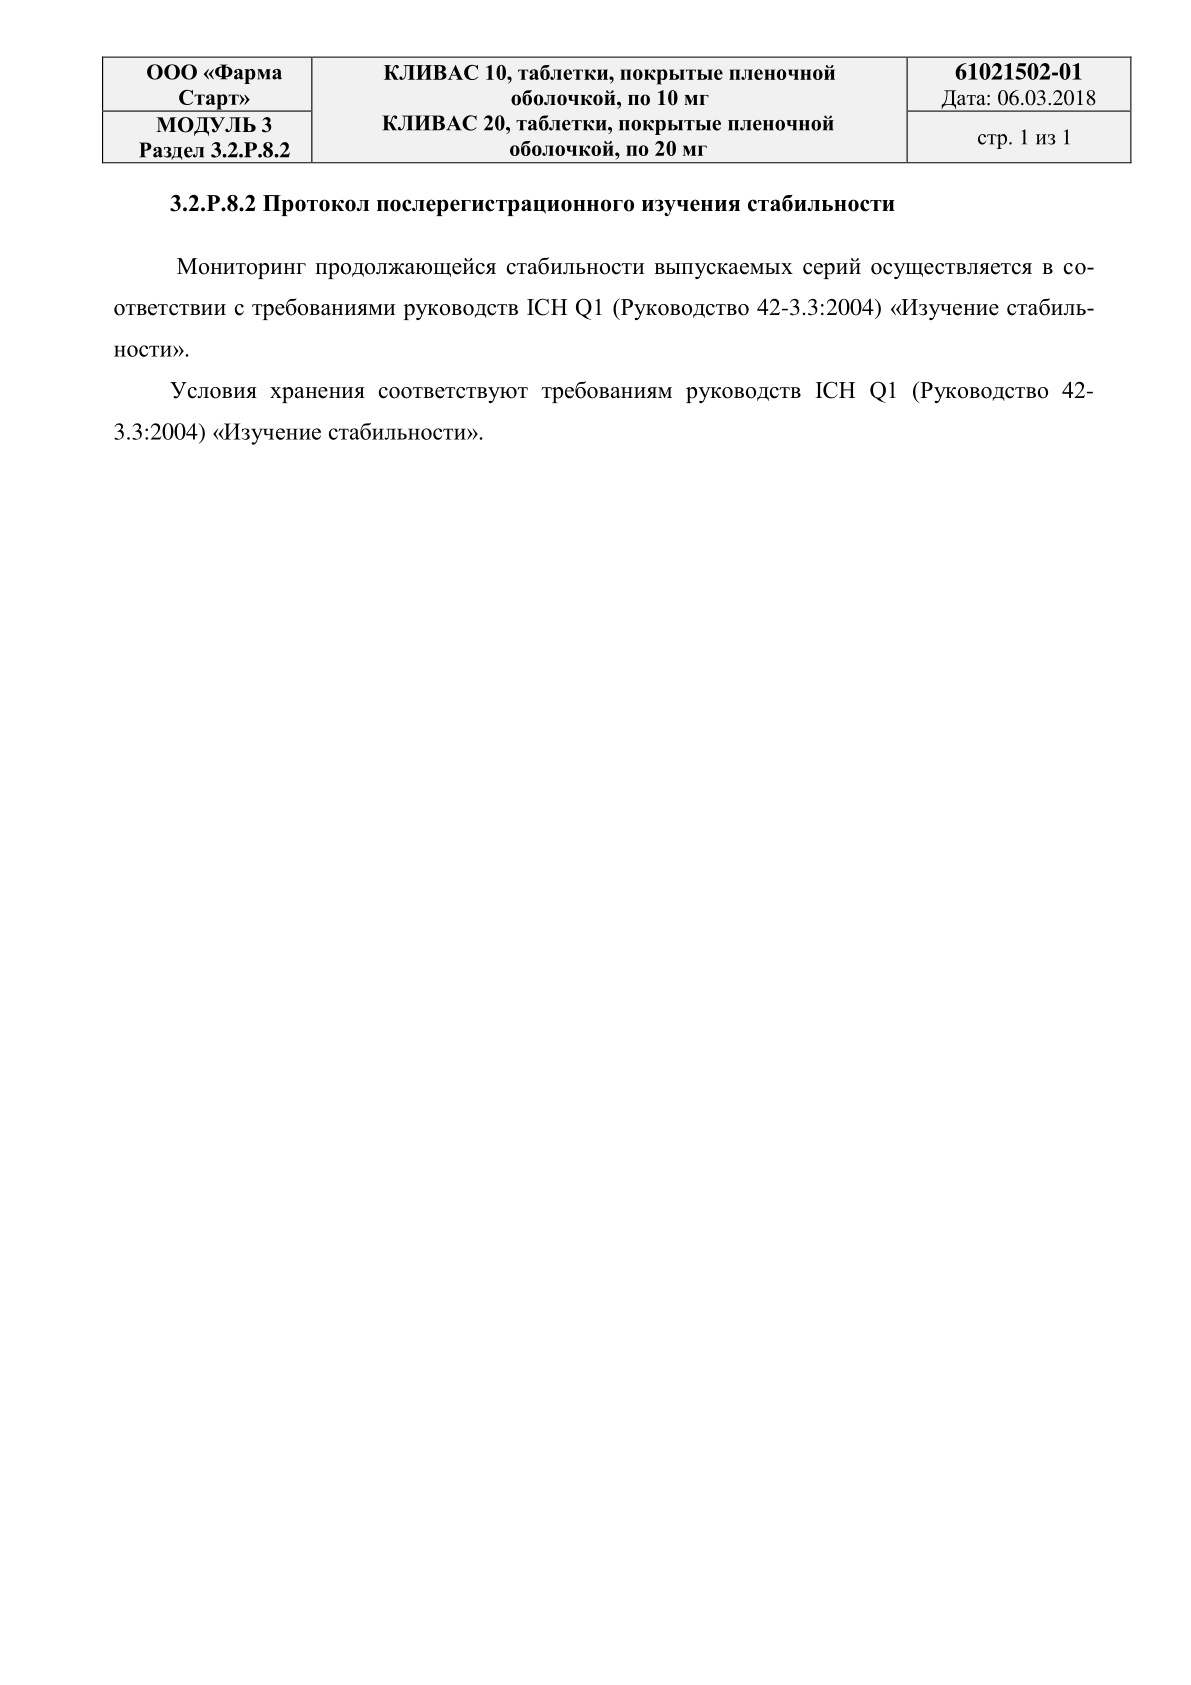merged_cells: (102, 55, 1132, 164)
